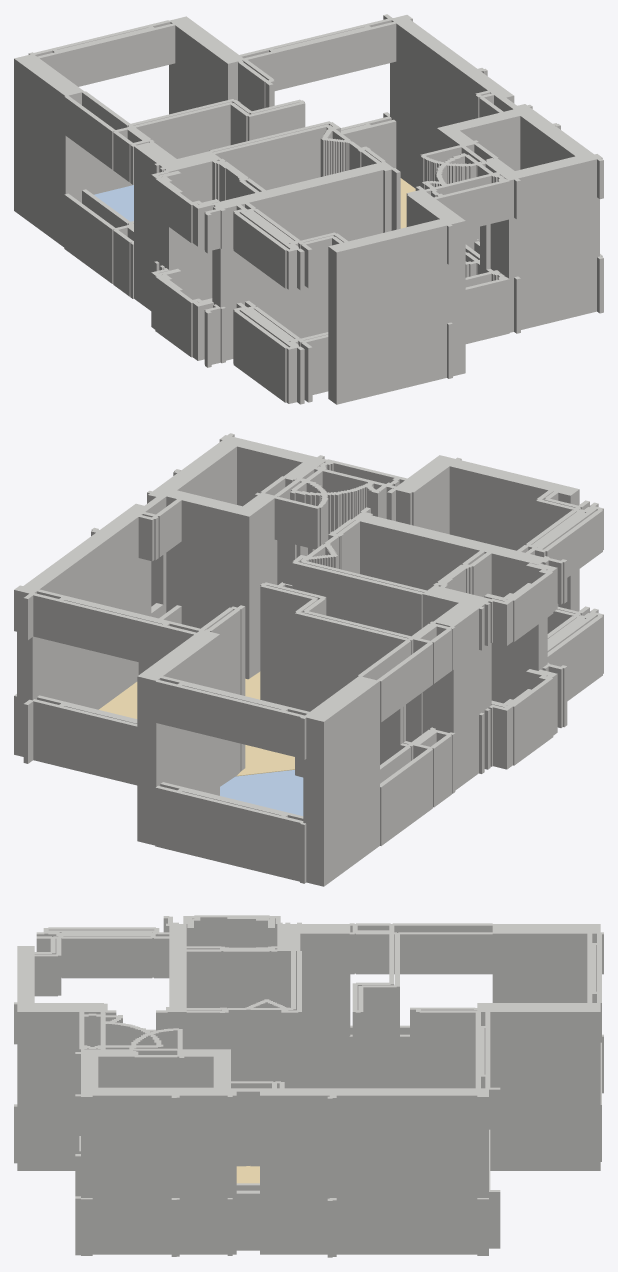
The picture shows the model from 3 angles, top to bottom: view 1: azimuth 30°, elevation 25°; view 2: azimuth 150°, elevation 25°; view 3: azimuth 270°, elevation 25°; orthographic projection. The views are drawn at different scales.
Visible parts, largest first — view 1: walls, room:bedroom:6; view 2: walls, room:bedroom:6, room:living:4; view 3: walls.
Boxes of the visible parts, x1,y1,x2,y2 form: walls: (14,14,603,404); room:bedroom:6: (94,185,133,221); walls: (14,433,603,886); room:bedroom:6: (220,770,303,815); room:living:4: (99,671,294,776); walls: (14,915,603,1257).
Bounding box in the file's own units: 6.93 × 2.8 × 9.42.
